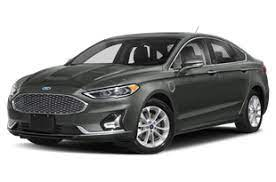Ford: (6, 29, 270, 153)
